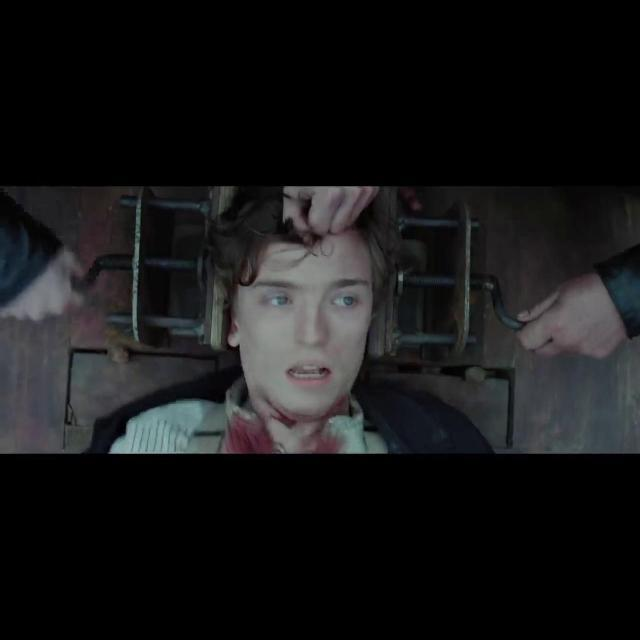blood: (226, 387, 350, 454)
